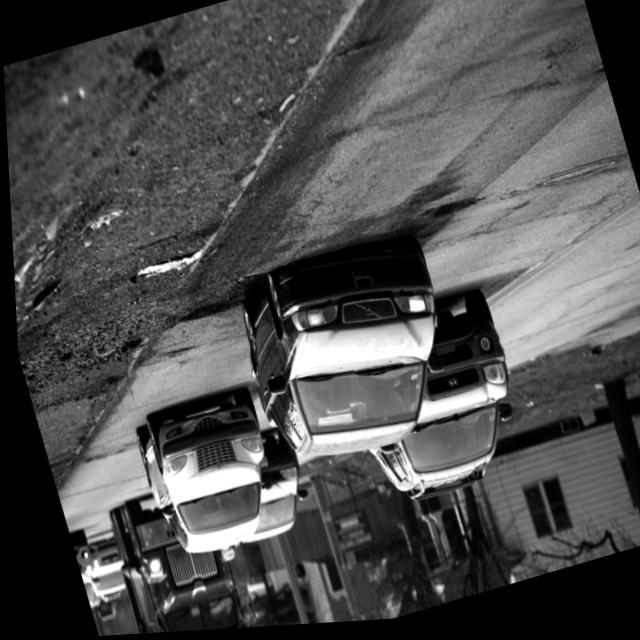pathole: (151, 246, 268, 339), (421, 204, 475, 224)
